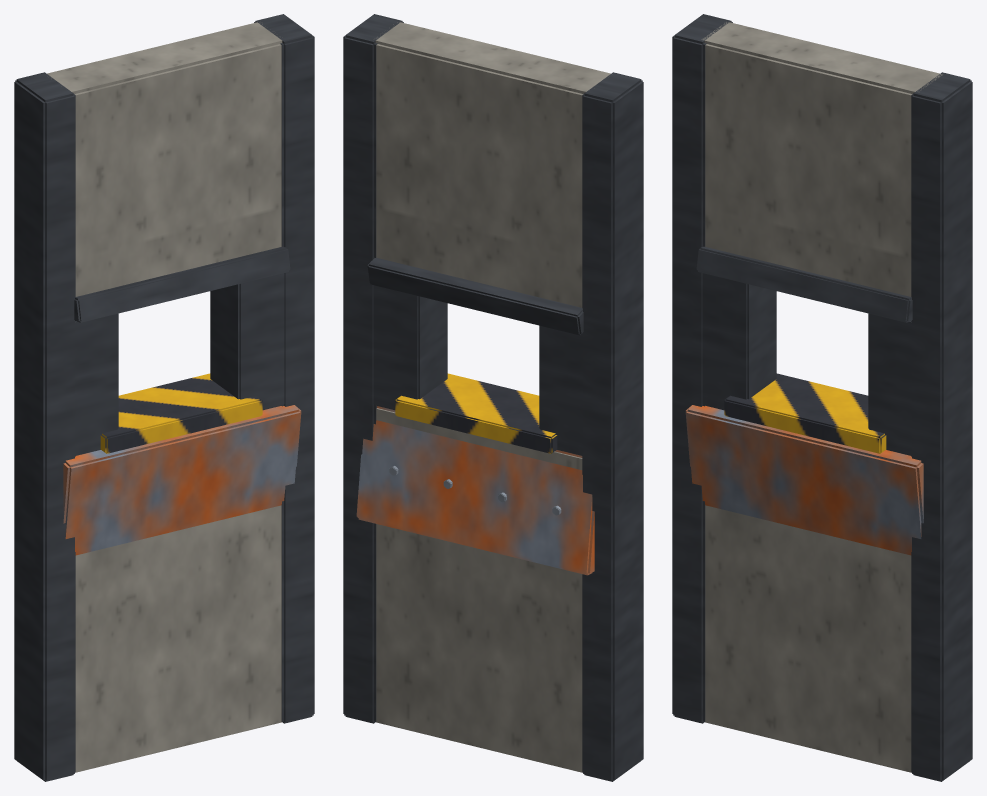
Rendered from wall_embrasure.glb.
The picture shows the model from 3 angles, left to right: view 1: azimuth 30°, elevation 25°; view 2: azimuth 150°, elevation 25°; view 3: azimuth 330°, elevation 25°; orthographic projection.
Visible parts, largest first — view 1: wall_embrasure; view 2: wall_embrasure; view 3: wall_embrasure.
Part boxes in pixels (<box>): wall_embrasure: <box>14,14,314,781</box>; wall_embrasure: <box>343,14,643,781</box>; wall_embrasure: <box>672,14,972,781</box>.
Size of the model in its own units: 1 by 2.4 by 0.2741.
Materials: 5 (5 with a texture image).
